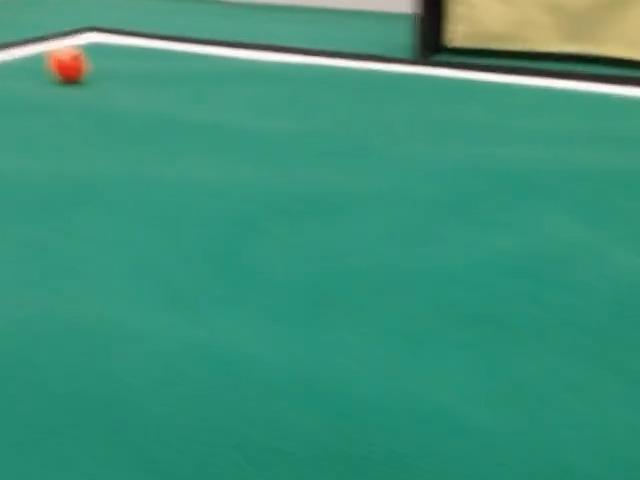Ball: (46, 47, 88, 83)
